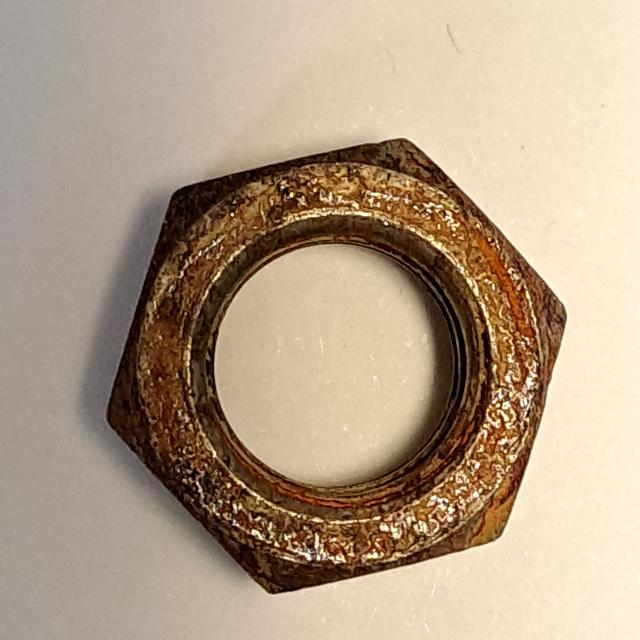Rust: (100, 130, 581, 607)
